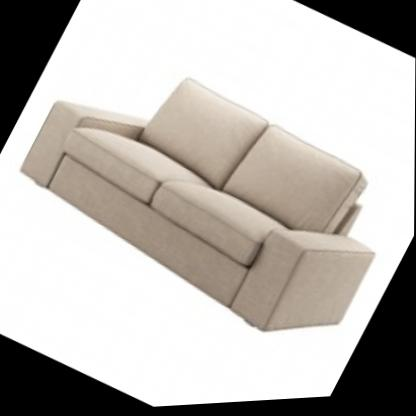Sofa: (0, 5, 416, 383)
